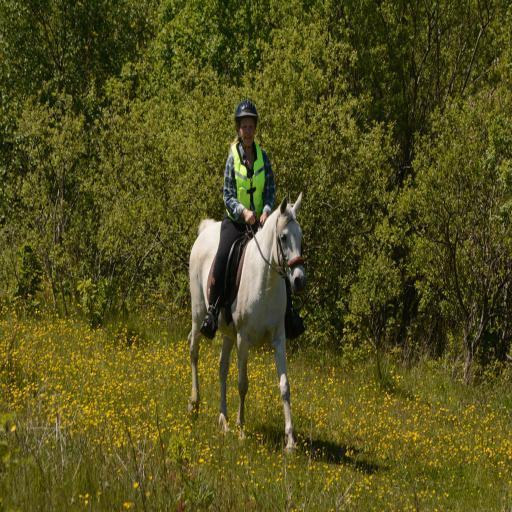horse: (186, 191, 308, 458)
